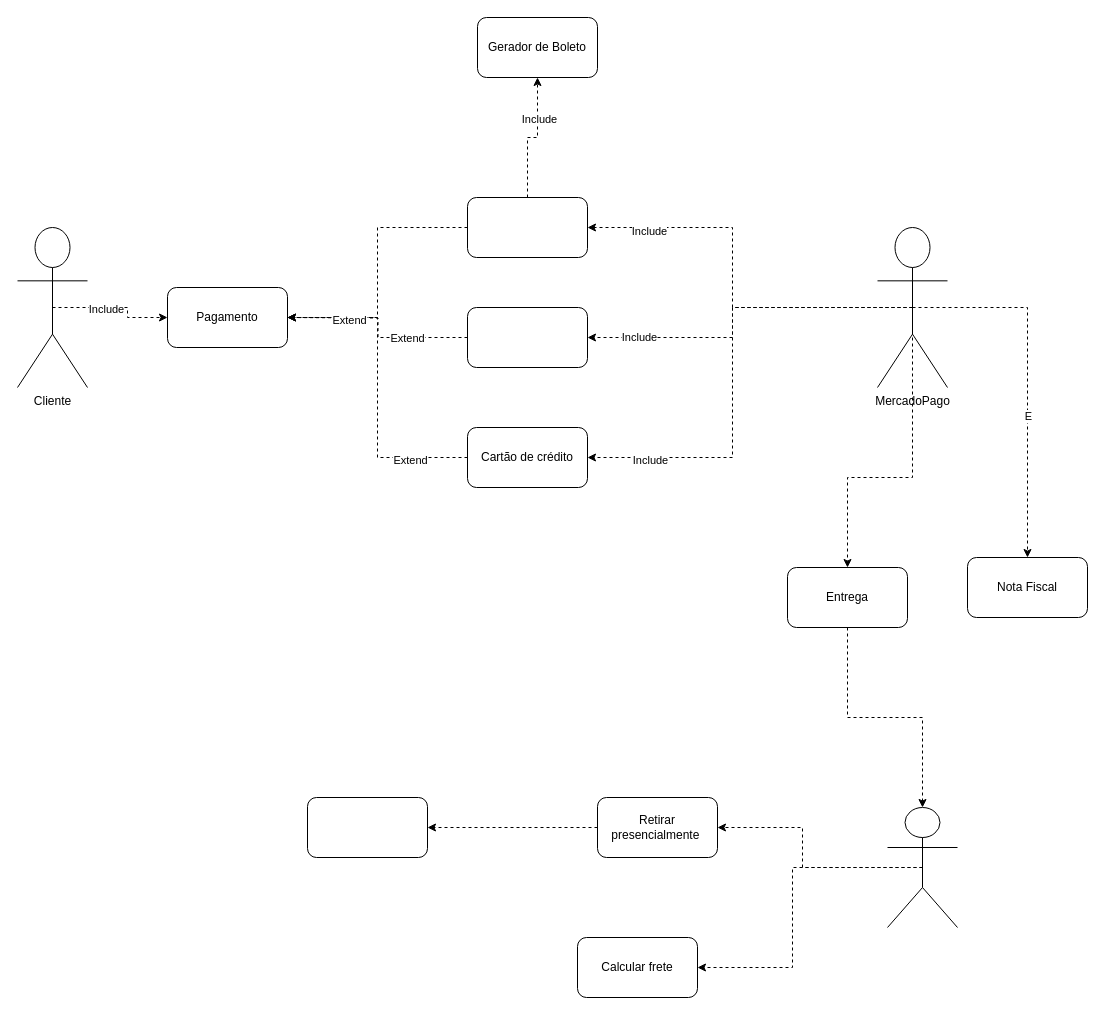
The diagram is 1105 pixels wide and 1015 high, and some of its shapes have lost their labels. Each missing label, with the box of its shape:
Boleto: (466, 196, 588, 258)
Data e Hora: (306, 796, 428, 858)
PIX: (466, 306, 588, 368)
Transportadora: (886, 806, 958, 928)
